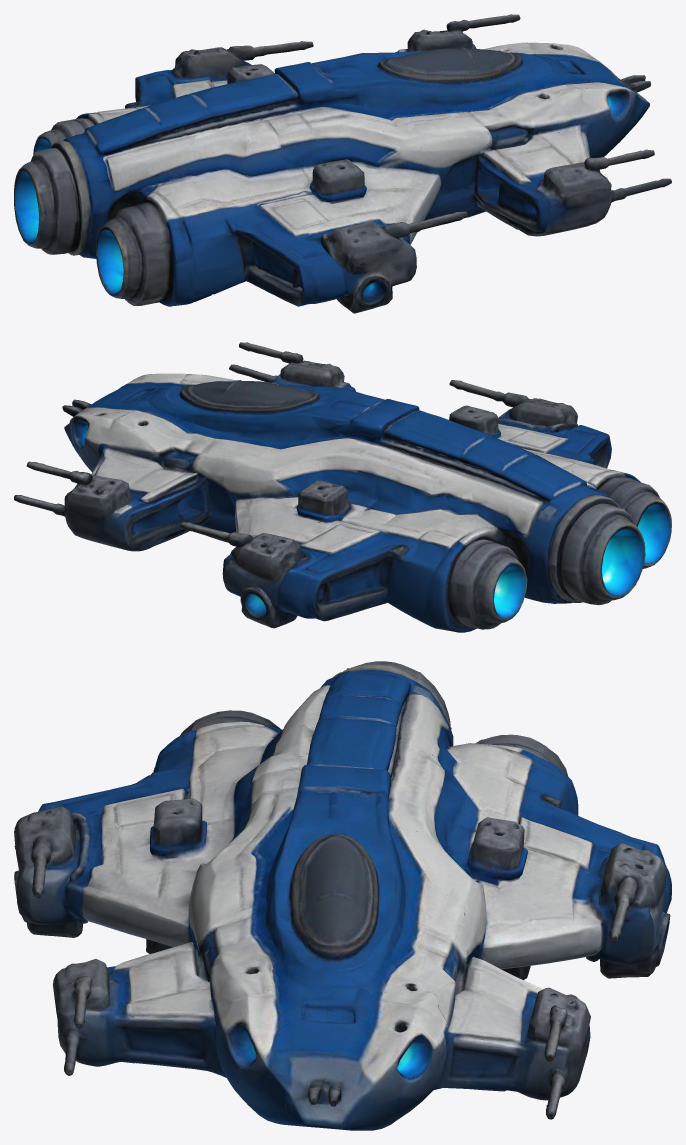
Rendered from vanguard_m.glb.
3 views of the same model, one above another, from view 1: azimuth 30°, elevation 25°; view 2: azimuth 150°, elevation 25°; view 3: azimuth 270°, elevation 25° (orthographic). The views are drawn at different scales.
Parts seen in each view (by area): view 1: tripo_node_9dd35ddd-756e-4eba-bfe3-02b149ed2801; view 2: tripo_node_9dd35ddd-756e-4eba-bfe3-02b149ed2801; view 3: tripo_node_9dd35ddd-756e-4eba-bfe3-02b149ed2801.
Boxes of the visible parts, x1,y1,x2,y2 form: tripo_node_9dd35ddd-756e-4eba-bfe3-02b149ed2801: (14, 14, 671, 313); tripo_node_9dd35ddd-756e-4eba-bfe3-02b149ed2801: (14, 342, 671, 632); tripo_node_9dd35ddd-756e-4eba-bfe3-02b149ed2801: (14, 661, 671, 1130).
Bounding box in the file's own units: 2 × 0.4759 × 1.42.
1 material, 1 textured.
